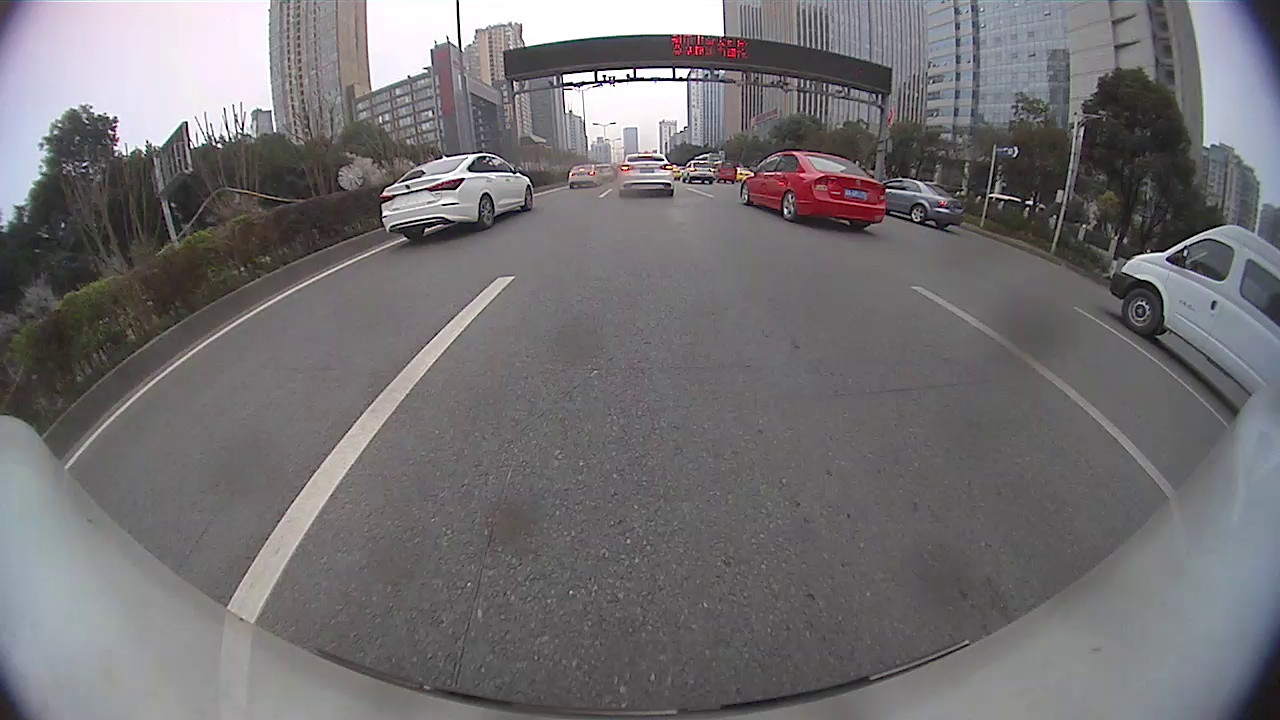car: (1107, 222, 1279, 396), (378, 153, 534, 239), (740, 146, 884, 233), (883, 178, 967, 231), (617, 152, 675, 198), (679, 159, 714, 183), (566, 162, 597, 188)
front: (1119, 287, 1163, 336), (737, 179, 750, 206), (523, 186, 534, 211)
rear: (478, 195, 496, 230), (781, 190, 797, 223), (910, 201, 928, 224)
